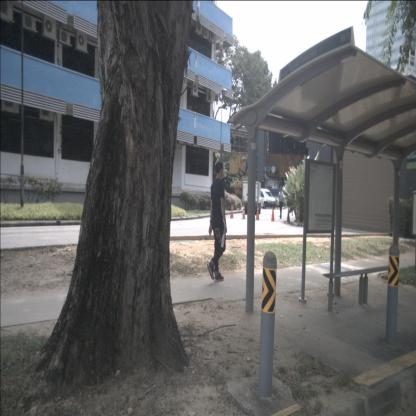cone: (255, 205, 261, 221), (270, 206, 276, 222), (230, 203, 235, 219), (286, 207, 291, 223), (242, 204, 247, 219)
